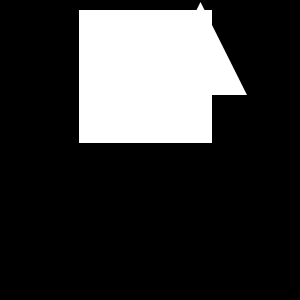circle: (79, 10, 212, 143)
triangle: (154, 2, 247, 95), (101, 91, 146, 136)
